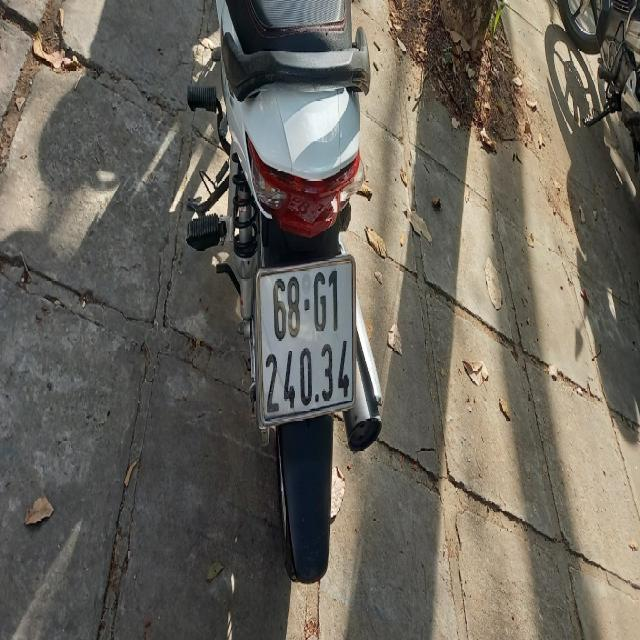0: (300, 348, 312, 405)
1: (329, 269, 339, 329)
2: (265, 354, 279, 413)
3: (321, 344, 332, 400)
4: (283, 348, 295, 407), (338, 339, 349, 398)
6: (272, 276, 286, 340)
8: (288, 278, 300, 340)
G: (313, 272, 327, 333)
